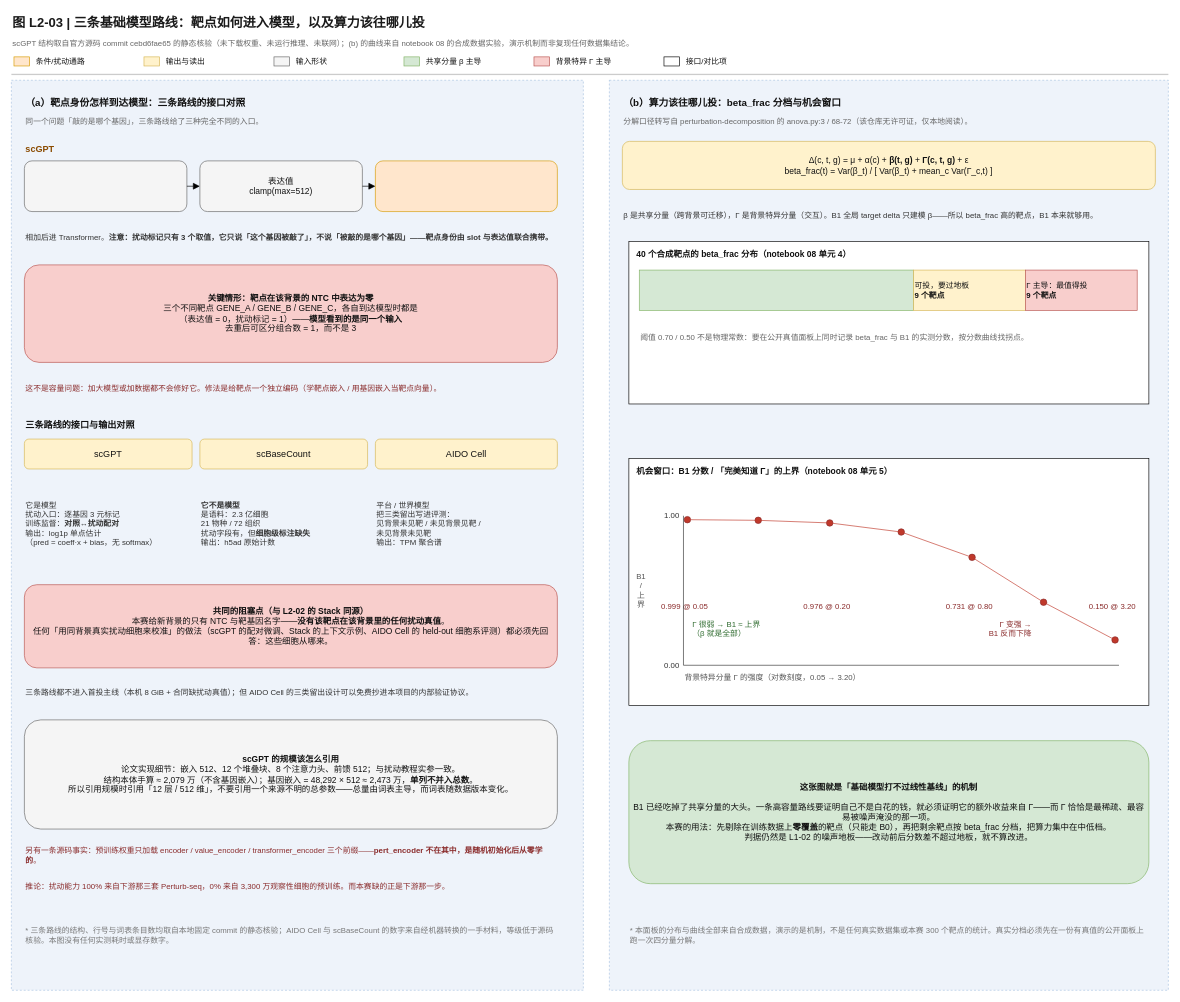
Image size: 1180x1002. Some labels were removed from this diagram. Each missing label, with the centre of its shape:
"β 主导：B1 就够 22 个靶点" goes at point 776,289.
"基因 slot （序列中的位置）" goes at point 105,186.
"扰动标记 Embedding(3, d)" goes at point 466,186.
